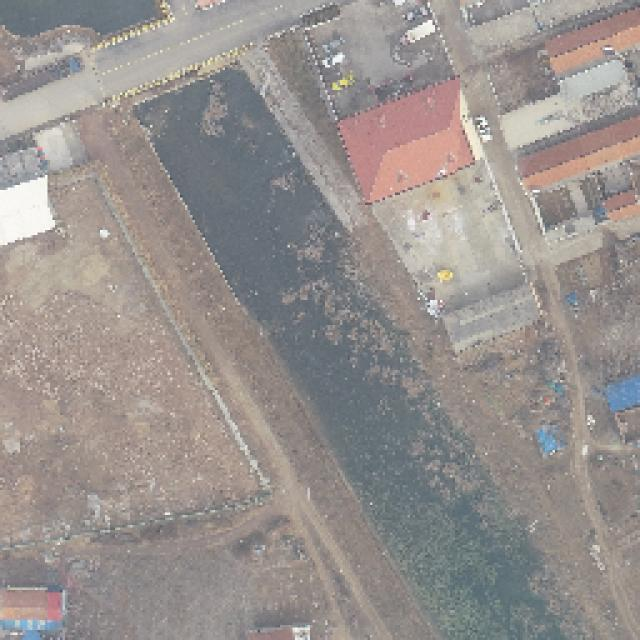Batiment: (339, 79, 474, 202), (521, 116, 640, 189), (548, 8, 640, 73), (0, 589, 63, 640), (602, 190, 640, 221), (246, 625, 310, 640)
